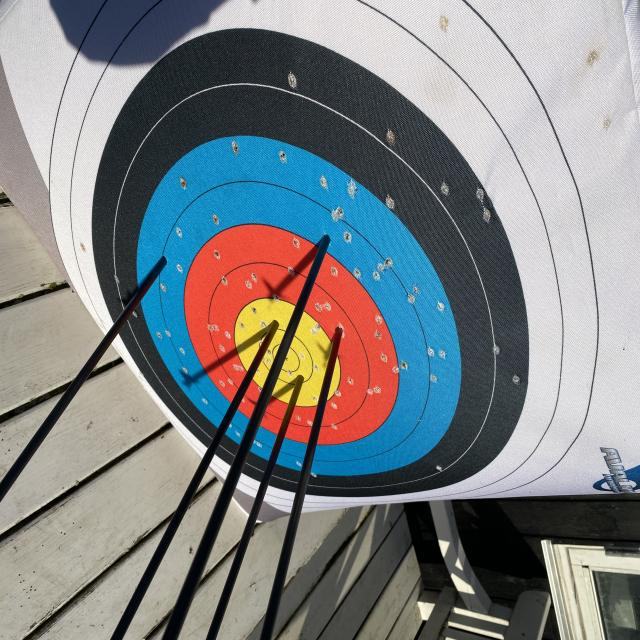Arrow_Blue: (295, 215, 342, 264), (152, 230, 178, 288)
Arrow_Red: (322, 307, 348, 349)
Arrow_Yellow: (260, 303, 284, 350), (290, 363, 310, 396)
